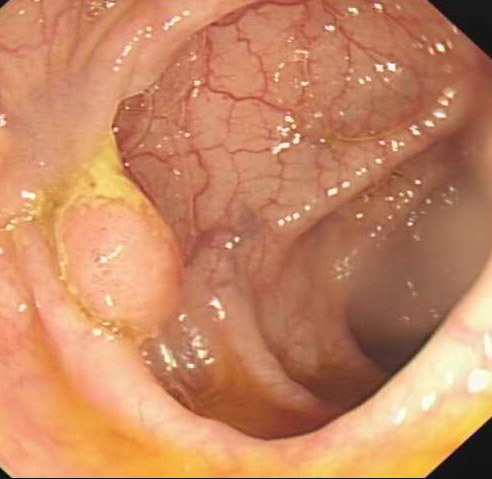adenoma: (52, 175, 186, 339)
